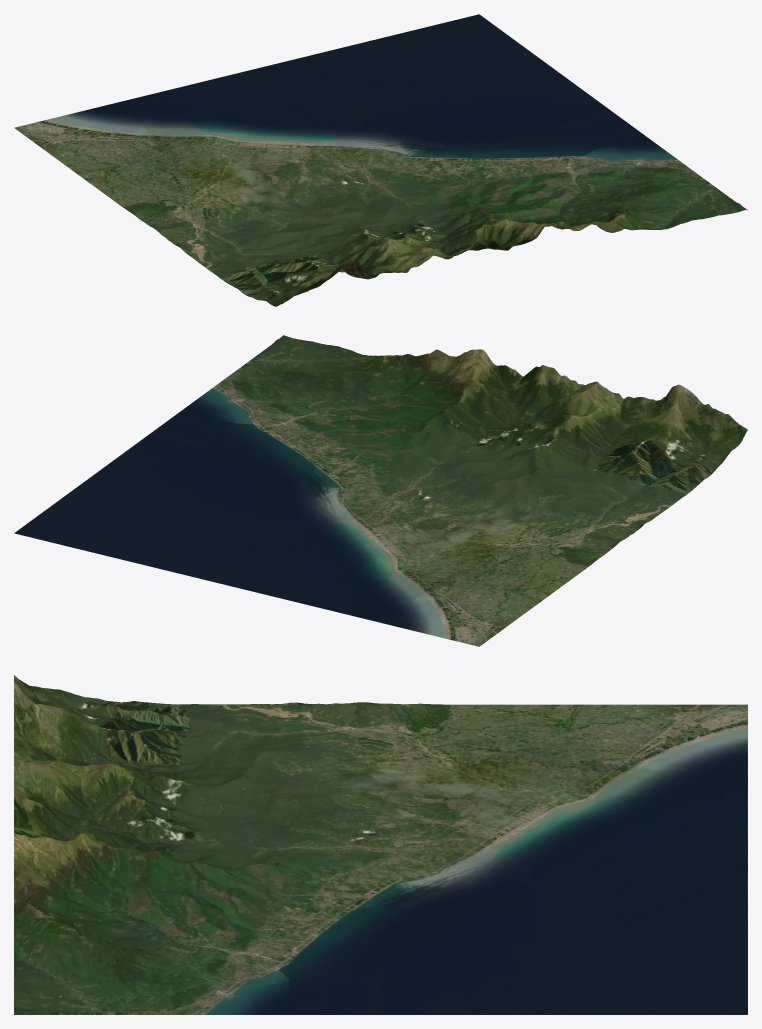
Rendered from terrain.glb.
3 renders of one model, top to bottom at view 1: azimuth 30°, elevation 25°; view 2: azimuth 150°, elevation 25°; view 3: azimuth 270°, elevation 25°, orthographic. The views are drawn at different scales.
Parts seen in each view (by area): view 1: Main.001; view 2: Main.001; view 3: Main.001.
Part boxes in pixels (bbox=[...]): Main.001: bbox=[14, 14, 747, 306]; Main.001: bbox=[14, 335, 747, 646]; Main.001: bbox=[14, 675, 747, 1014].
Size of the model in its own units: 10 by 1 by 10.
Materials: 1 (1 with a texture image).
